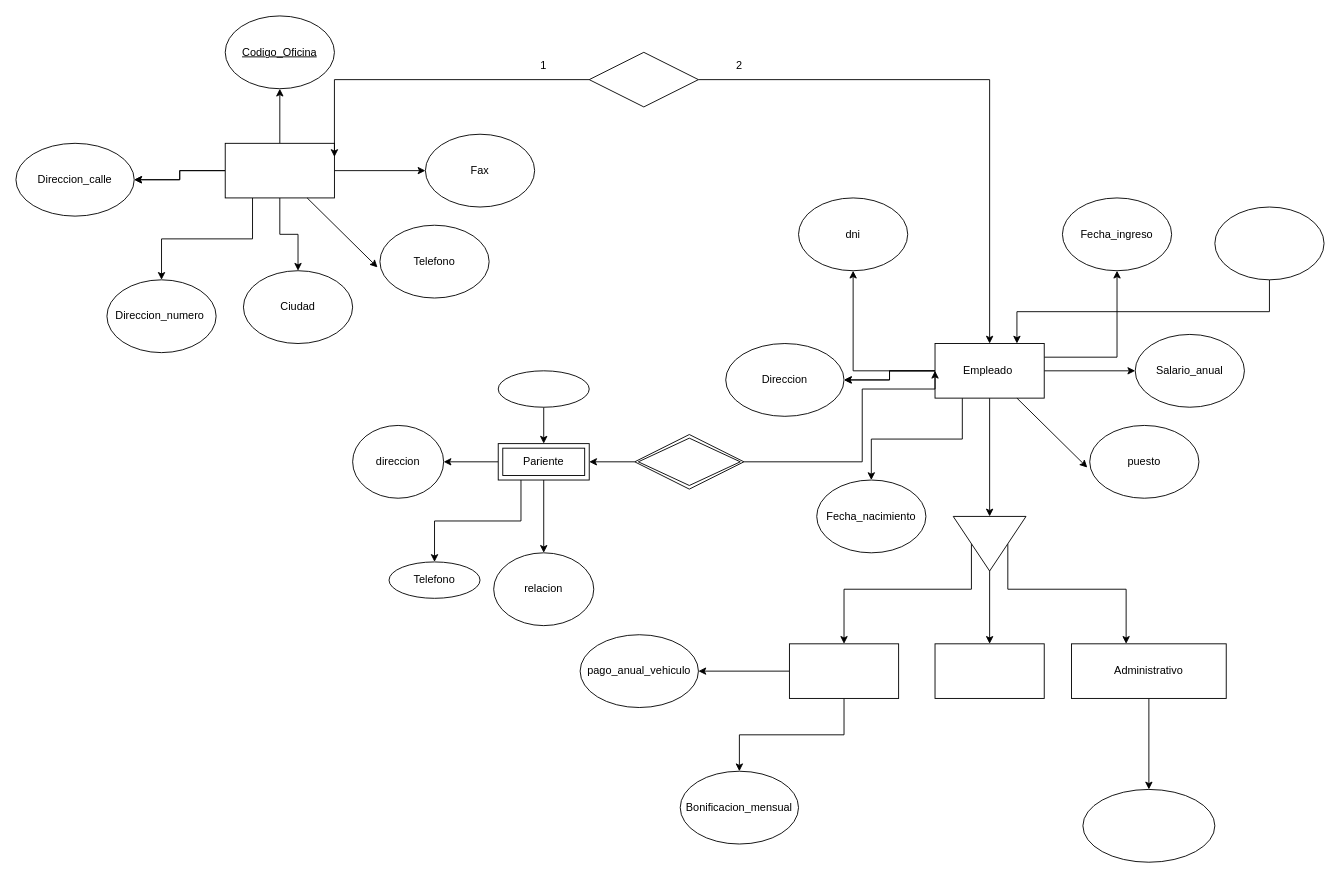
This 1340x878 diagram has some shape labels left out. The shapes that lost their labels are listed below. From the top down, each one's centre as x and y in pixels, then its label:
At (x=643, y=79): "trabaja_en".
At (x=279, y=170): "Oficina".
At (x=1269, y=243): "Codigo_empleado".
At (x=543, y=388): "nombre_pariente".
At (x=689, y=461): "Relationship".
At (x=844, y=670): "Director".
At (x=989, y=670): "Supervisor".
At (x=1148, y=825): "Velocidad_mecanografia".
